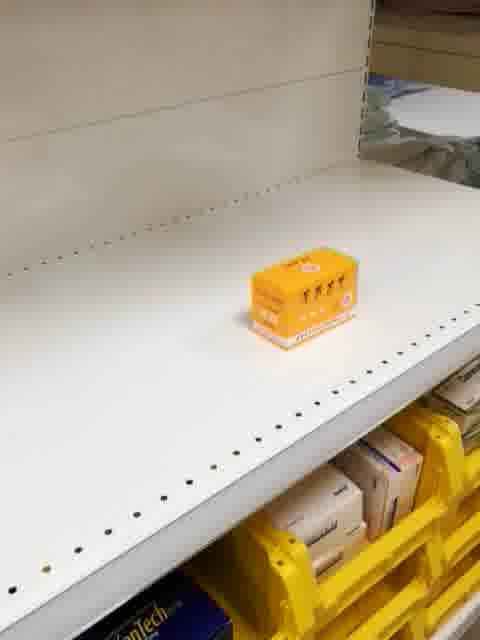jasminetea: (244, 241, 363, 353)
